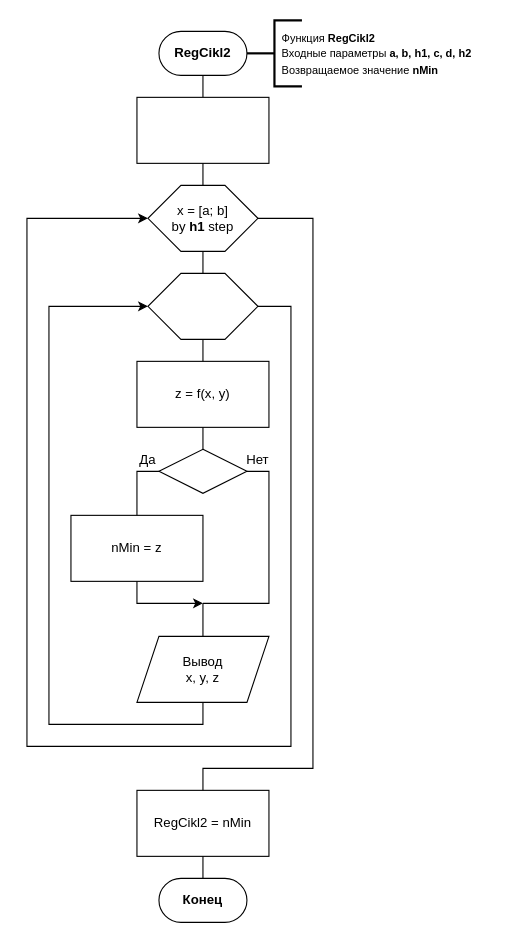
The diagram is 508 pixels wide and 942 high, and some of its shapes have lost their labels. Each missing label, with the box of its shape:
nMin= 3.40282e+038 z = 0: (136, 96, 269, 163)
y = [c; d] by h2 step: (147, 272, 258, 339)
z < nMin: (158, 448, 247, 493)
